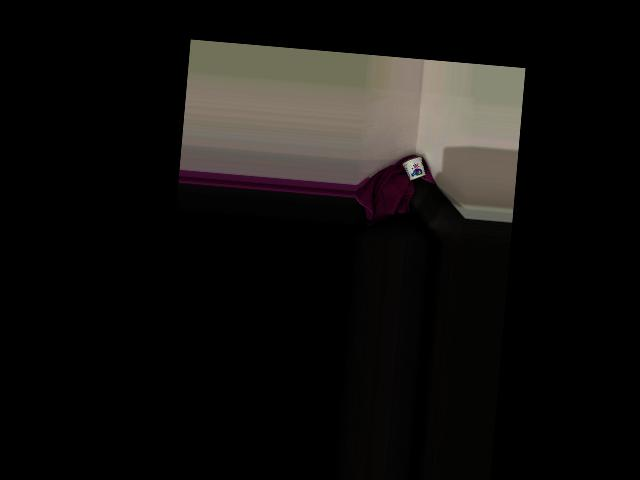cotage: (401, 154, 426, 180)
